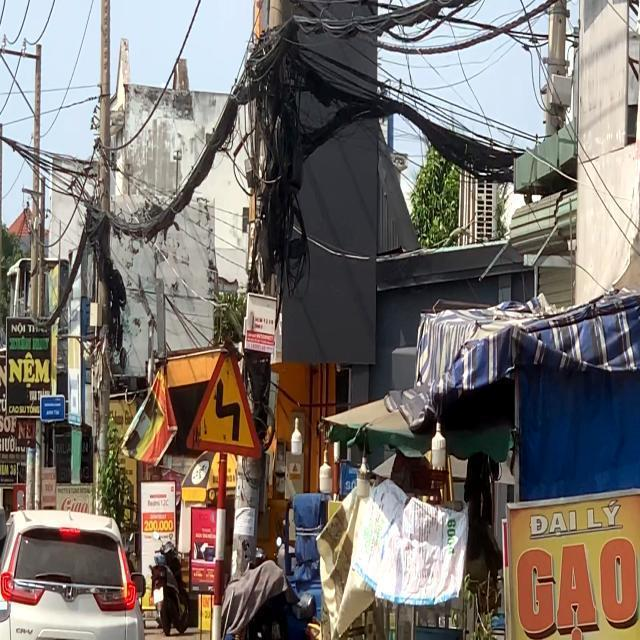201-cho-ngoat-nguy-hiem: (184, 344, 264, 456)
